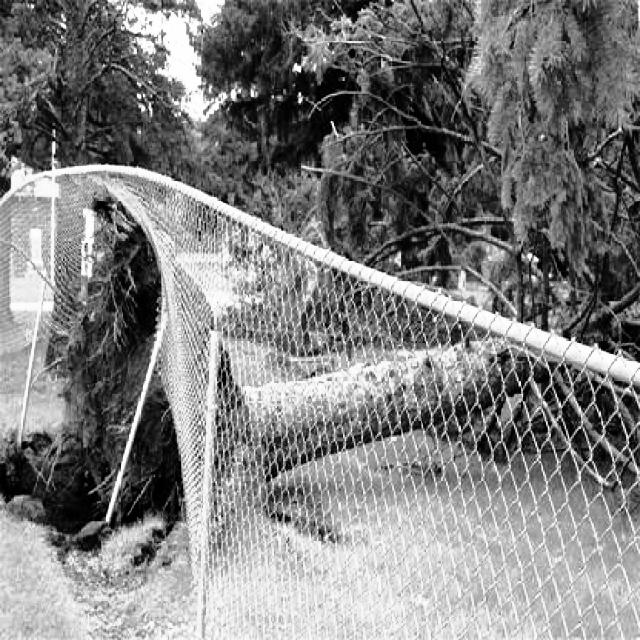anomaly-fence: (0, 87, 340, 640)
